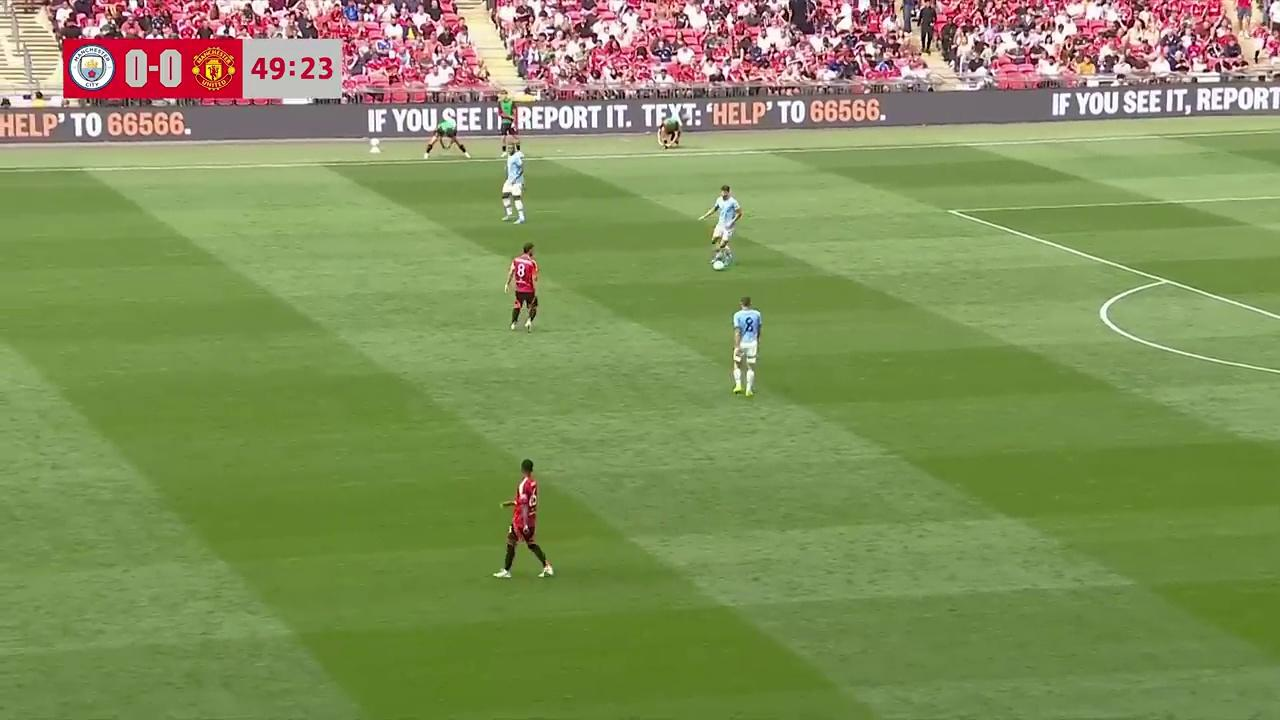ball: (712, 256, 725, 271)
player: (493, 458, 554, 579), (505, 244, 539, 332), (732, 295, 762, 394), (705, 188, 740, 270), (501, 146, 525, 223)
